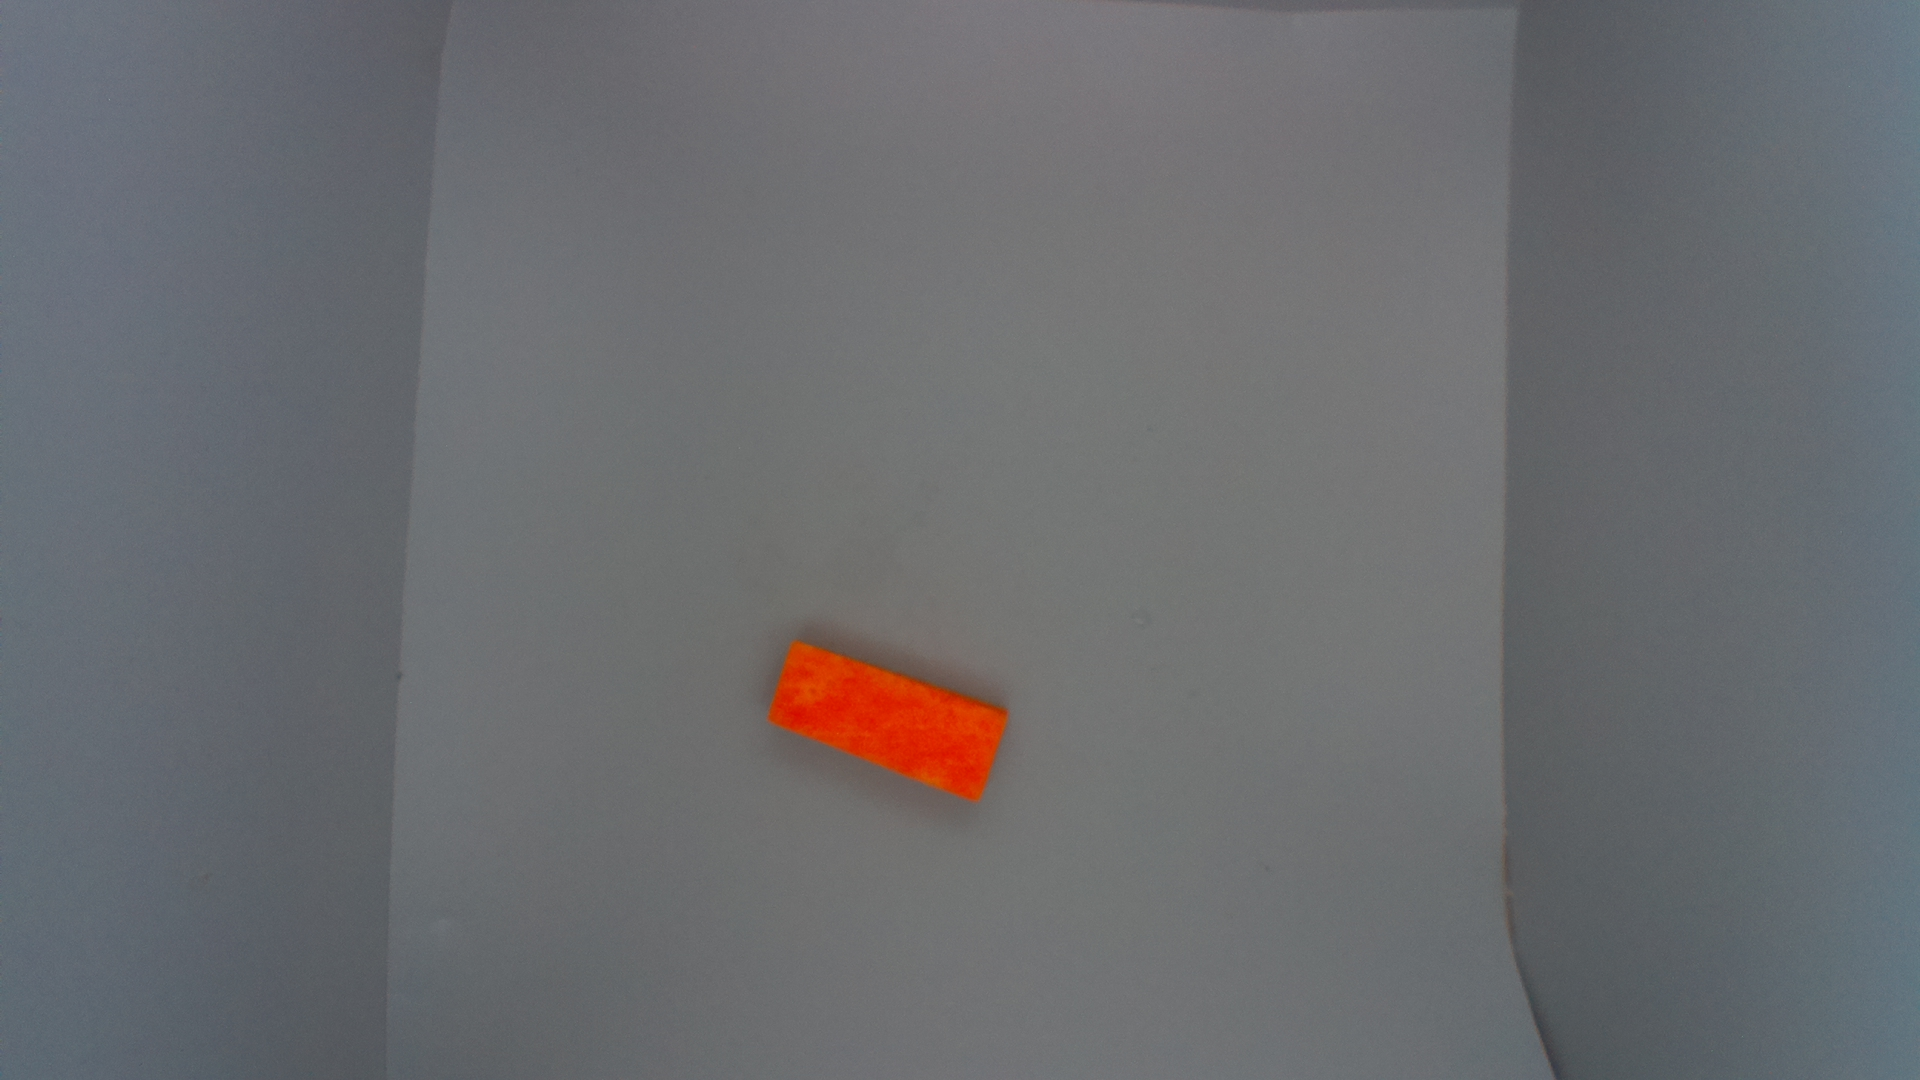carrot: (766, 638, 1014, 804)
